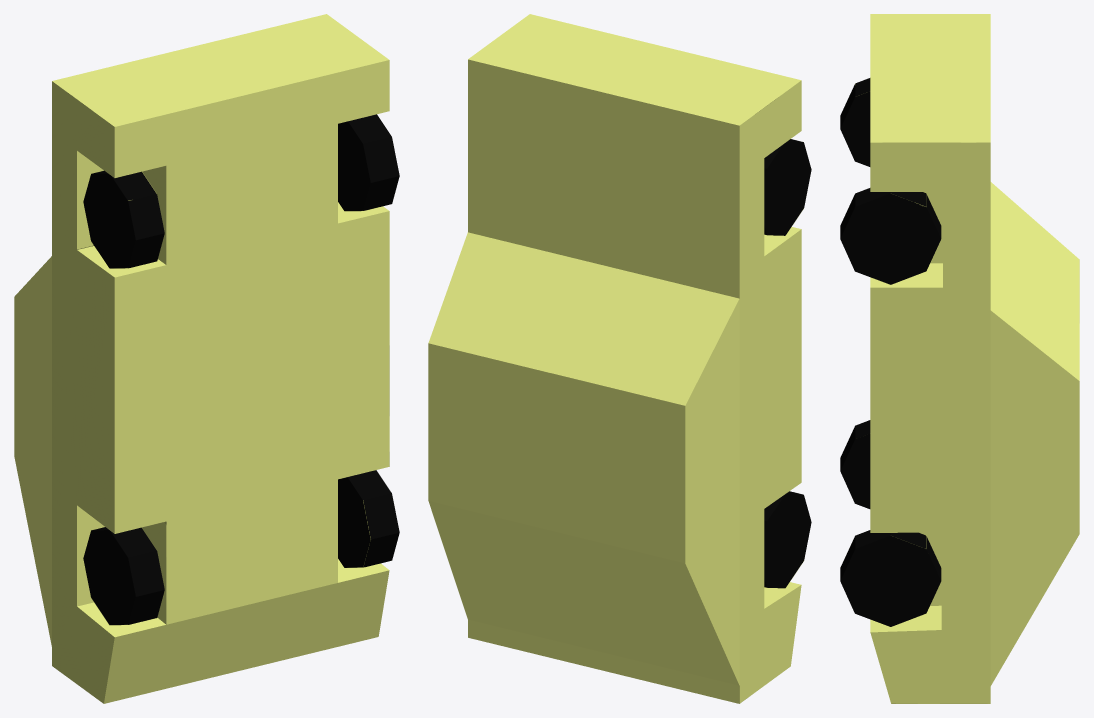
File: car.fbx
3 views of the same model, side by side, from view 1: azimuth 30°, elevation 25°; view 2: azimuth 150°, elevation 25°; view 3: azimuth 270°, elevation 25° (orthographic). The views are drawn at different scales.
Parts seen in each view (by area): view 1: 立方体.001; view 2: 立方体.001; view 3: 立方体.001.
Boxes of the visible parts, box(x1,y1,x2,y2) form: 立方体.001: box(14, 14, 399, 703); 立方体.001: box(428, 14, 811, 703); 立方体.001: box(840, 14, 1079, 703).
Size of the model in its own units: 250 by 508 by 196.
Materials: 1 (1 with a texture image).
